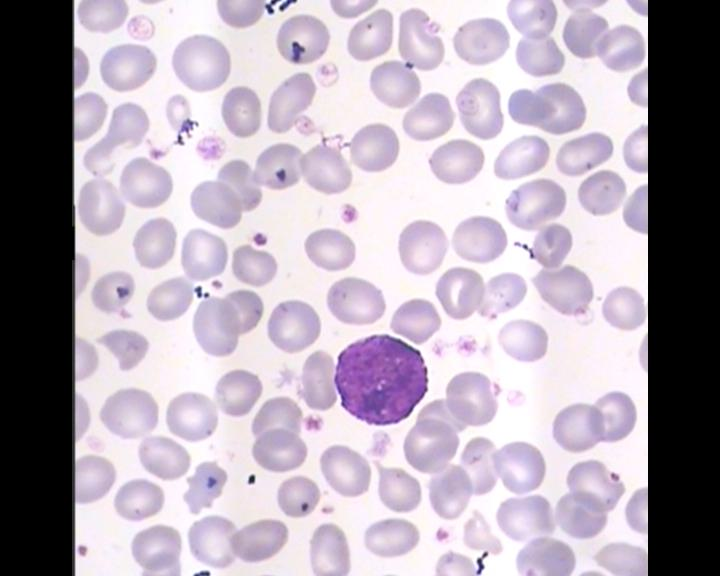baso: (334, 330, 433, 427)
